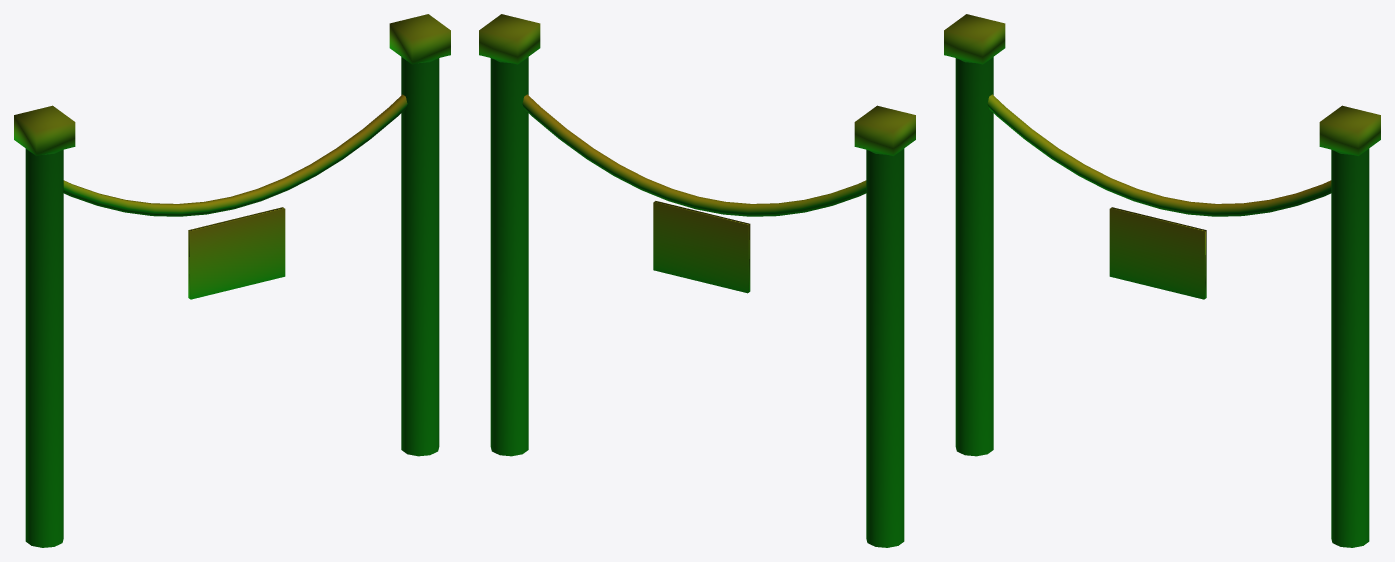
The model's file is stair_chain.glb.
3 renders of one model, left to right at view 1: azimuth 30°, elevation 25°; view 2: azimuth 150°, elevation 25°; view 3: azimuth 330°, elevation 25°, orthographic.
Parts seen in each view (by area): view 1: stair_chain; view 2: stair_chain; view 3: stair_chain.
Part boxes in pixels (<box>): stair_chain: <box>14,14,450,547</box>; stair_chain: <box>479,14,915,547</box>; stair_chain: <box>944,14,1380,547</box>.
Size of what is drawn, in the model's own units: 1.1 by 1.07 by 0.1031.
